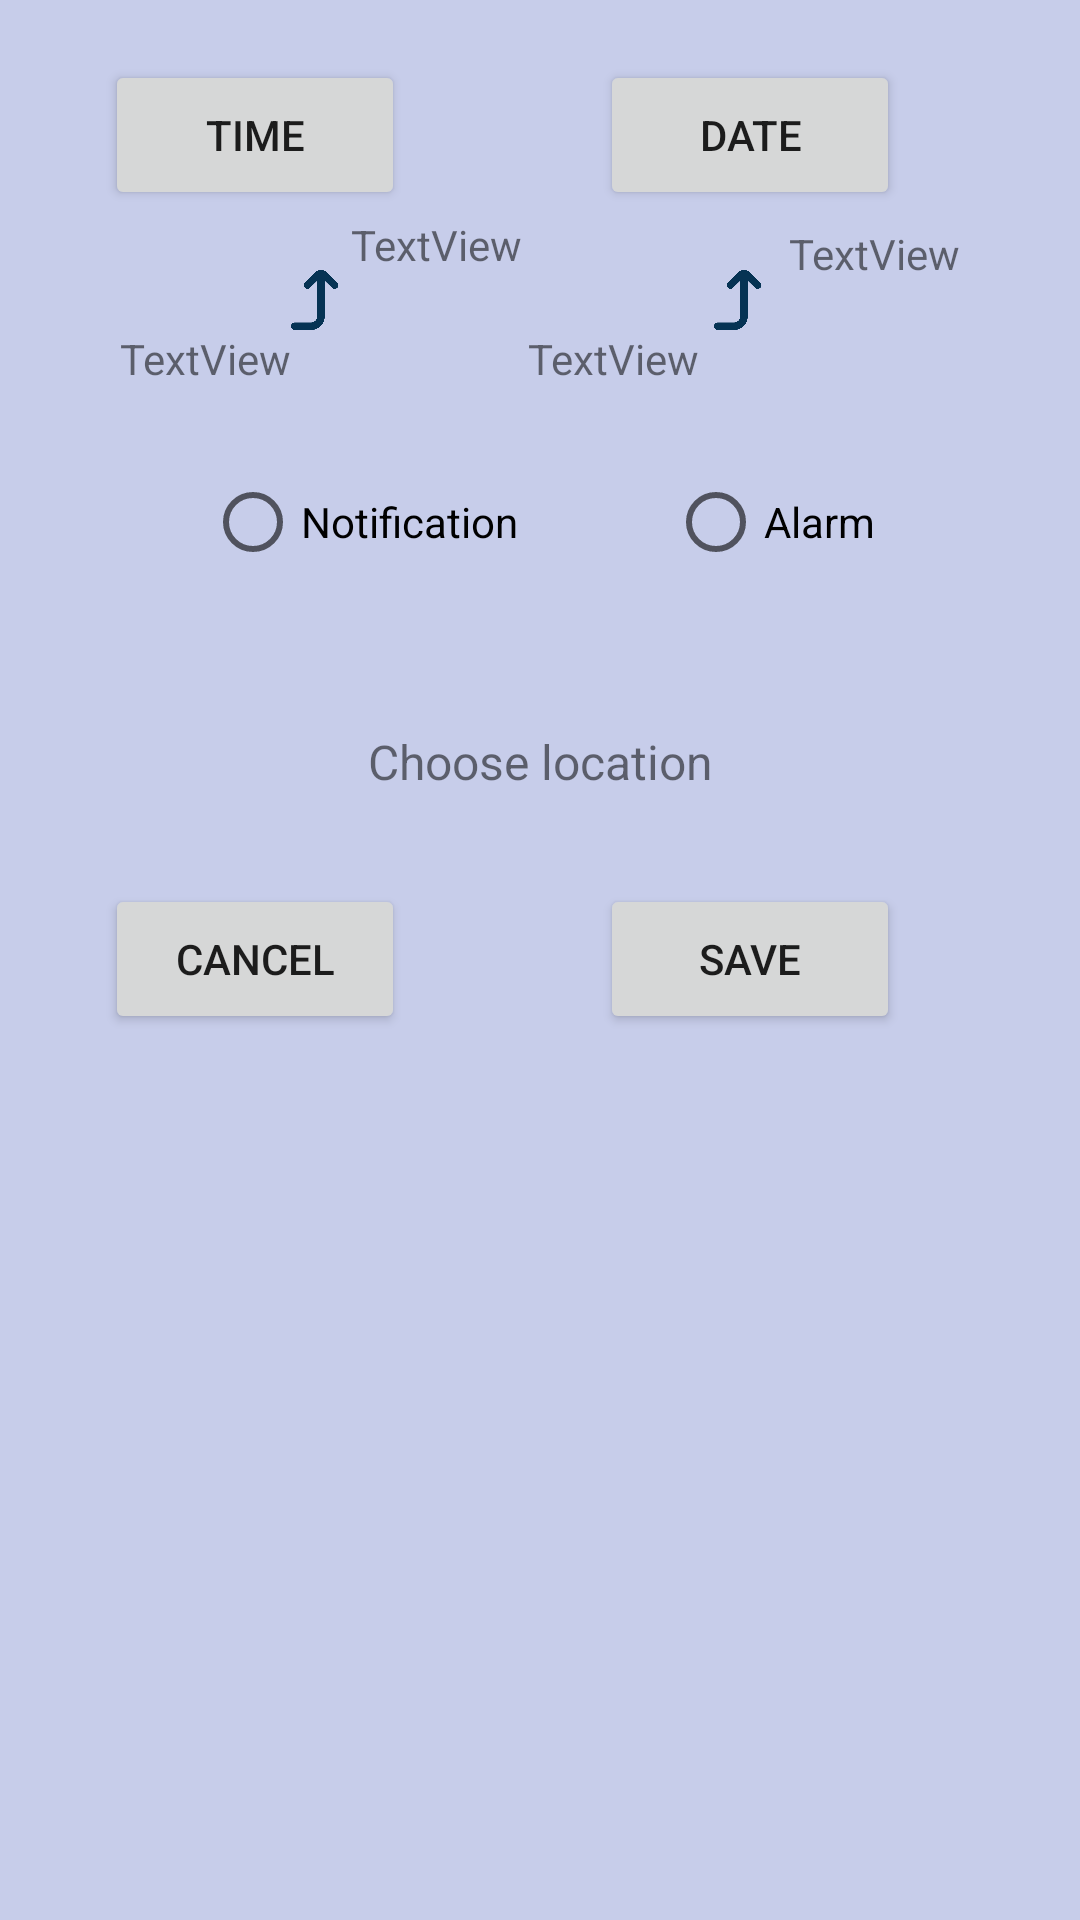

Icons on this 1080w x 1920h Android screen, each with its box as (x1, y1, x2, y2):
arrow: (291, 270, 338, 330), (714, 270, 761, 330)
